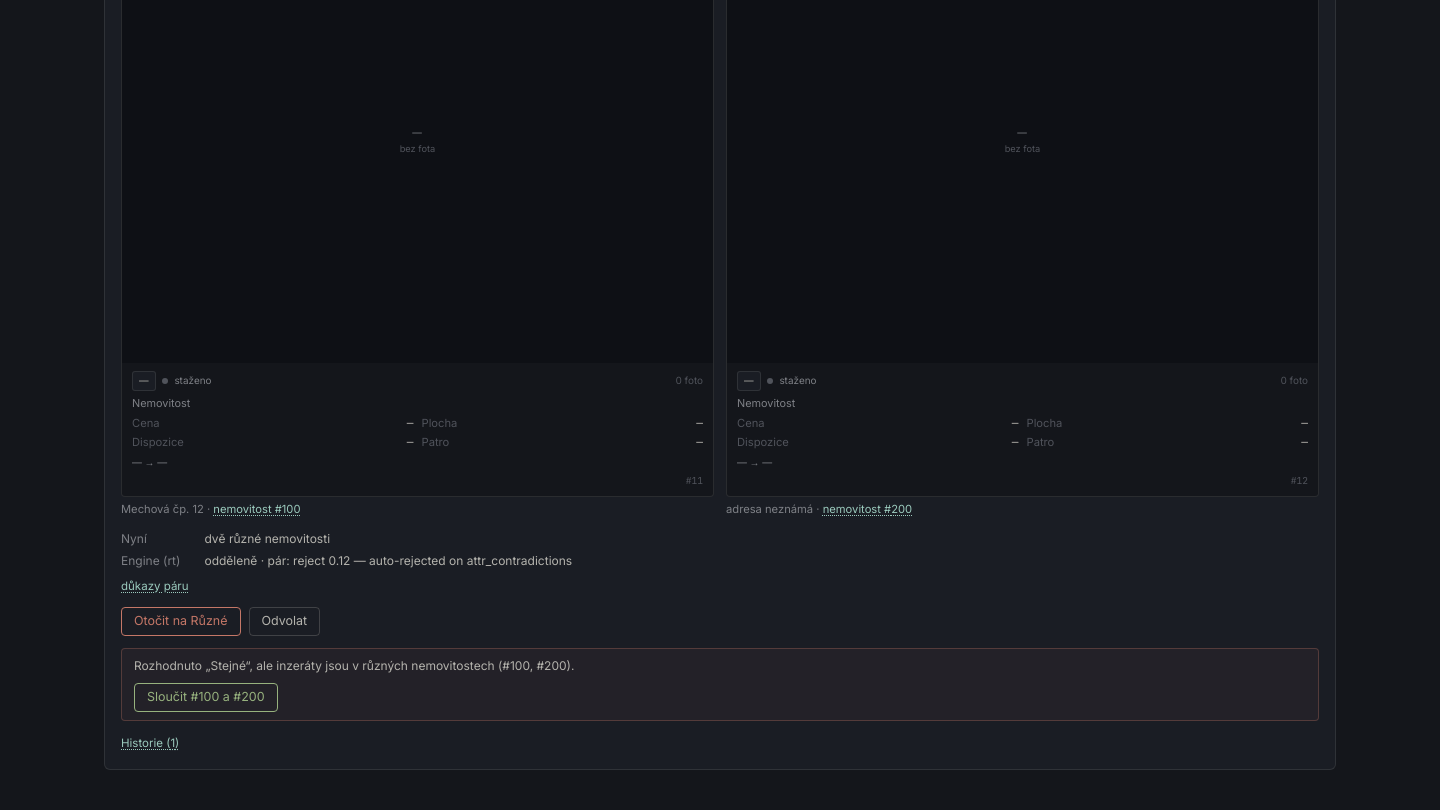
Test case: <AutodedupRulings> corrections are new rulings › offers the merge a same on two properties needs, behind its confirm, and toasts the receipt
(page scrolled)
Click the button "Sloučit #100 a #200".
click(206, 697)  # box [134,683,278,712]
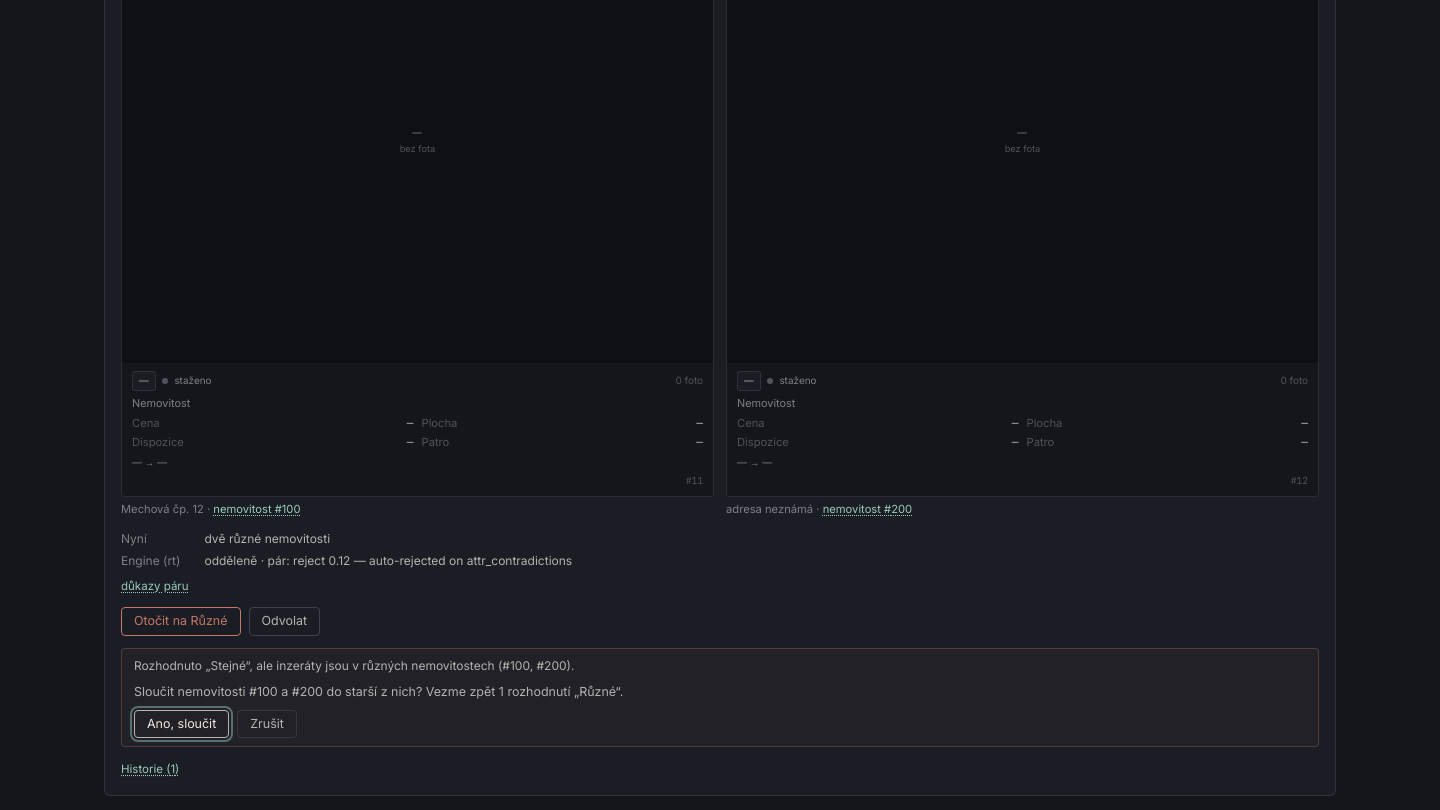
Expected: the text "Vezme zpět 1 rozhodnutí „Různé“." shows "Sloučit nemovitosti #100 a #200 do starší z nich? Vezme zpět 1 rozhodnutí „Různé“.", [134,684,623,699]
Click the button "Ano, sloučit".
click(182, 724)  # box [134,710,229,738]
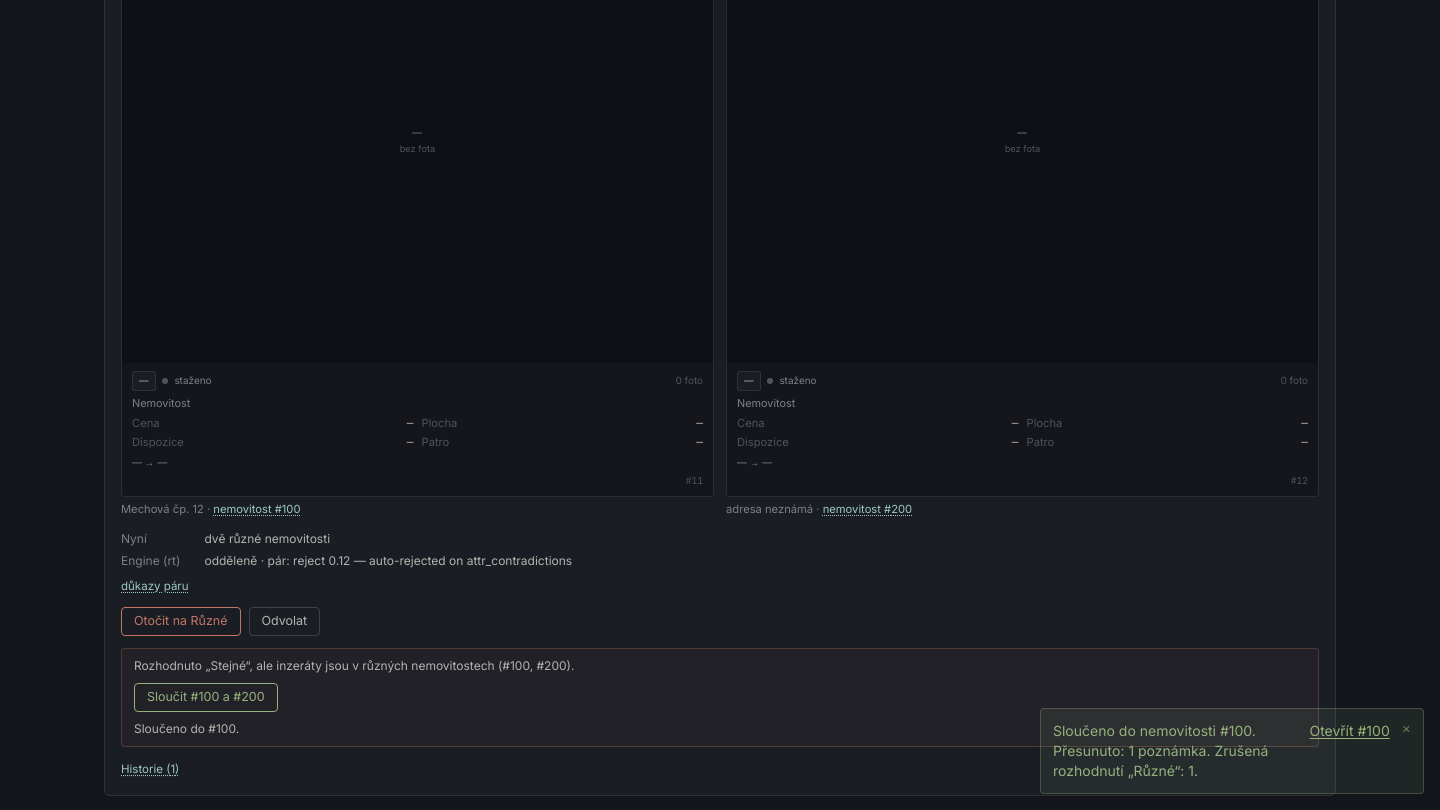
Expected: the text "Sloučeno do nemovitosti #100. Přesunuto: 1 poznámka. Zrušená rozhodnutí „Různé“: 1." is shown, [1053,722,1268,779]
Click the button "Otevřít #100".
click(1350, 731)  # box [1309,721,1390,741]
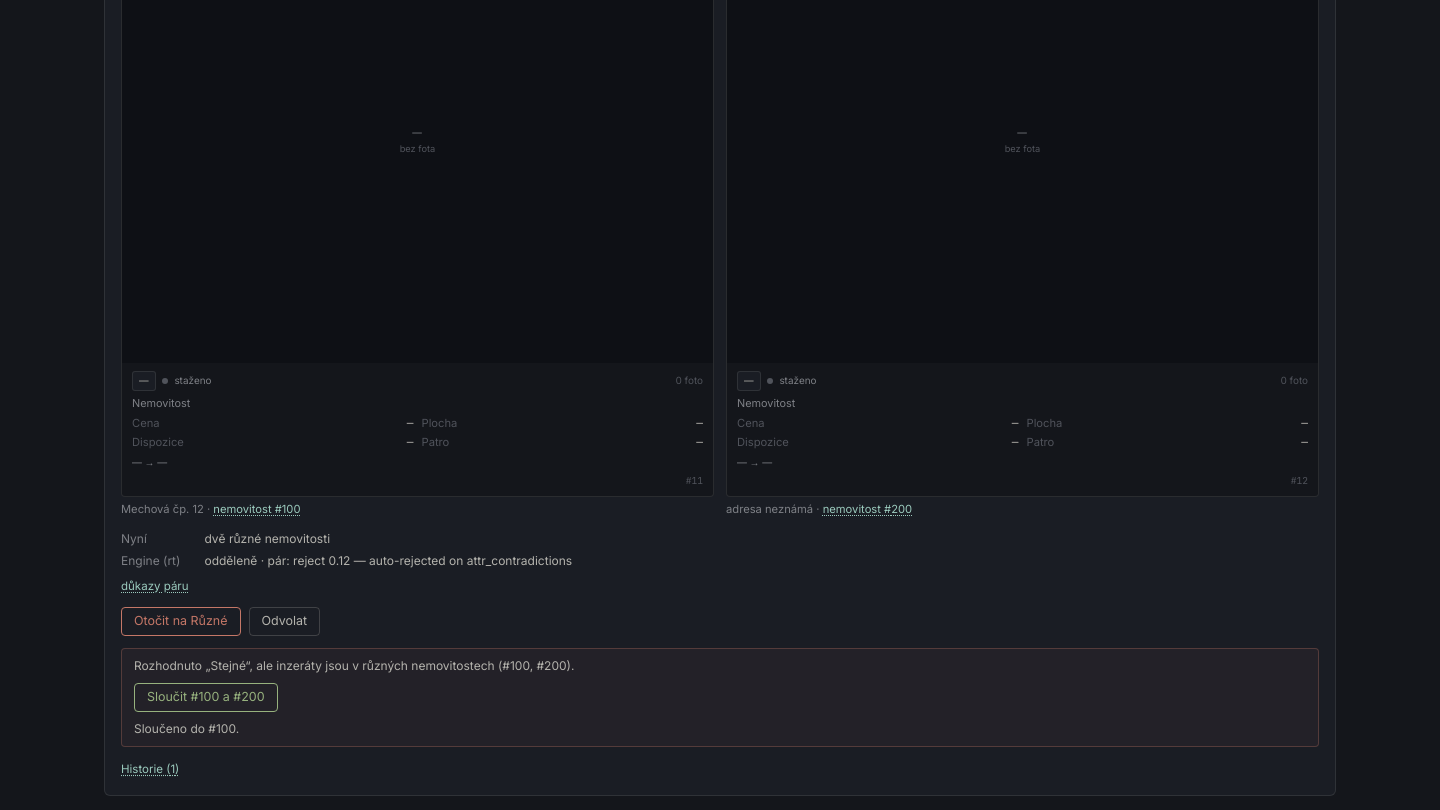
Expected: the text "Sloučeno do nemovitosti #100. Přesunuto: 1 poznámka. Zrušená rozhodnutí „Různé“: 1." is gone
